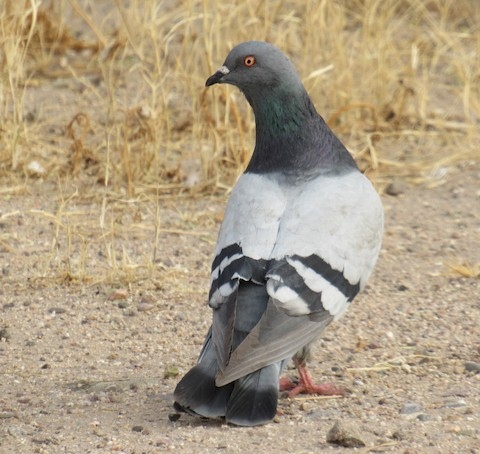pigeon: (170, 32, 389, 428)
